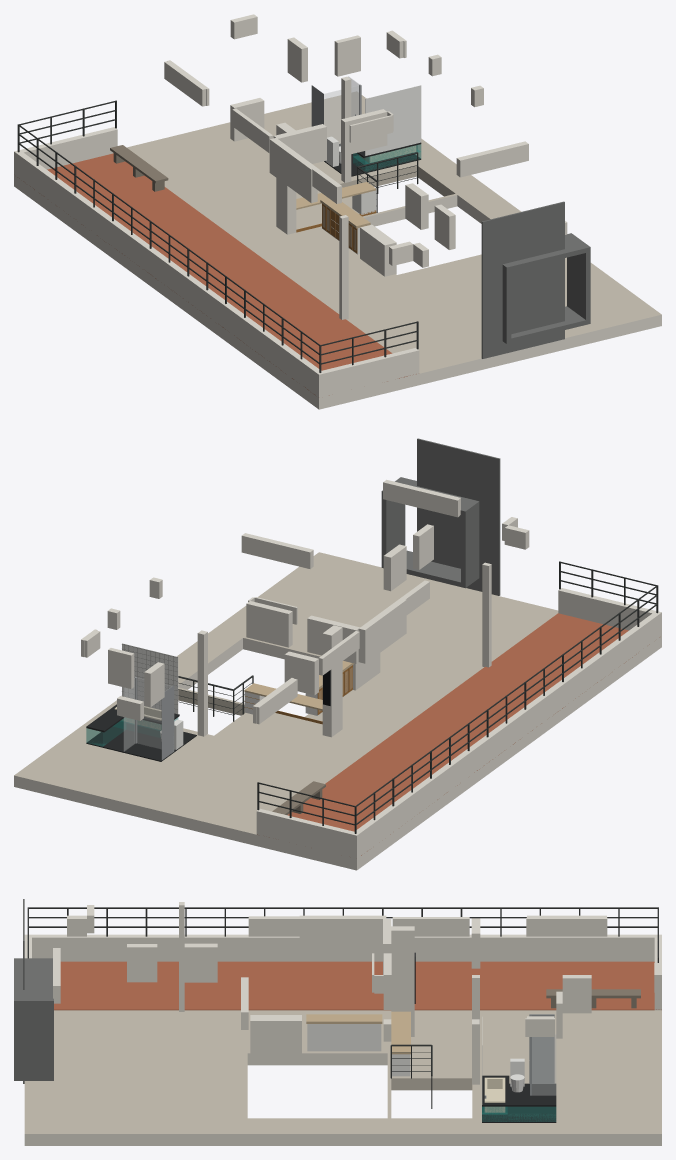
Rendered from second.glb.
3 renders of one model, top to bottom at view 1: azimuth 30°, elevation 25°; view 2: azimuth 150°, elevation 25°; view 3: azimuth 270°, elevation 25°, orthographic. The views are drawn at different scales.
Parts seen in each view (by area): view 1: Terrazzo.003, Lime White.003, Terracotta.002, Lime White_high.003, Charcoal Plaster_wall.001, Charcoal Steel.002, White Tile, Charcoal Steel_high.001, Lime White_wall.003, Glass.001, Light Wood.001, Weathered Teak (+4 smaller); view 2: Terrazzo.003, Lime White.003, Terracotta.002, Lime White_high.003, Charcoal Plaster_wall.001, Charcoal Steel.002, Black Slate, Charcoal Steel_high.001, Lime White_wall.003, White Tile, Glass.001, Brushed Steel.001 (+3 smaller); view 3: Terrazzo.003, Lime White.003, Terracotta.002, Lime White_high.003, Charcoal Plaster_wall.001, White Laminate, Black Slate, Charcoal Steel_high.001, Charcoal Steel.002, Light Wood.001, Glass.001, Lime White_wall.003 (+5 smaller).
Boxes of the visible parts, x1=… form: Terrazzo.003: x1=127, y1=91, x2=661, y2=373; Lime White.003: x1=14, y1=122, x2=661, y2=409; Terracotta.002: x1=17, y1=153, x2=416, y2=395; Lime White_high.003: x1=164, y1=14, x2=567, y2=267; Charcoal Plaster_wall.001: x1=481, y1=201, x2=590, y2=358; Charcoal Steel.002: x1=17, y1=100, x2=418, y2=372; White Tile: x1=326, y1=85, x2=421, y2=166; Charcoal Steel_high.001: x1=18, y1=100, x2=417, y2=355; Lime White_wall.003: x1=339, y1=76, x2=351, y2=319; Glass.001: x1=323, y1=76, x2=359, y2=249; Light Wood.001: x1=296, y1=182, x2=376, y2=228; Weathered Teak: x1=110, y1=145, x2=168, y2=191; Terrazzo.003: x1=14, y1=552, x2=558, y2=834; Lime White.003: x1=14, y1=588, x2=661, y2=870; Terracotta.002: x1=257, y1=613, x2=659, y2=855; Lime White_high.003: x1=81, y1=479, x2=529, y2=724; Charcoal Plaster_wall.001: x1=381, y1=438, x2=500, y2=595; Charcoal Steel.002: x1=178, y1=561, x2=658, y2=833; Black Slate: x1=86, y1=704, x2=196, y2=761; Charcoal Steel_high.001: x1=258, y1=561, x2=657, y2=816; Lime White_wall.003: x1=197, y1=562, x2=491, y2=736; White Tile: x1=122, y1=643, x2=183, y2=749; Glass.001: x1=124, y1=668, x2=352, y2=751; Brushed Steel.001: x1=134, y1=677, x2=174, y2=760; Terrazzo.003: x1=24, y1=1010, x2=661, y2=1133; Lime White.003: x1=24, y1=926, x2=661, y2=1145; Terracotta.002: x1=54, y1=961, x2=661, y2=1010; Lime White_high.003: x1=53, y1=905, x2=661, y2=1041; Charcoal Plaster_wall.001: x1=14, y1=899, x2=53, y2=1083; White Laminate: x1=307, y1=1024, x2=410, y2=1076; Black Slate: x1=482, y1=1075, x2=556, y2=1122; Charcoal Steel_high.001: x1=28, y1=907, x2=658, y2=956; Charcoal Steel.002: x1=27, y1=907, x2=658, y2=1108; Light Wood.001: x1=306, y1=1011, x2=410, y2=1054; Glass.001: x1=532, y1=1034, x2=555, y2=1095; Lime White_wall.003: x1=179, y1=902, x2=479, y2=1084.
Bounding box in the file's own units: 4.58 × 1.9 × 7.18.
